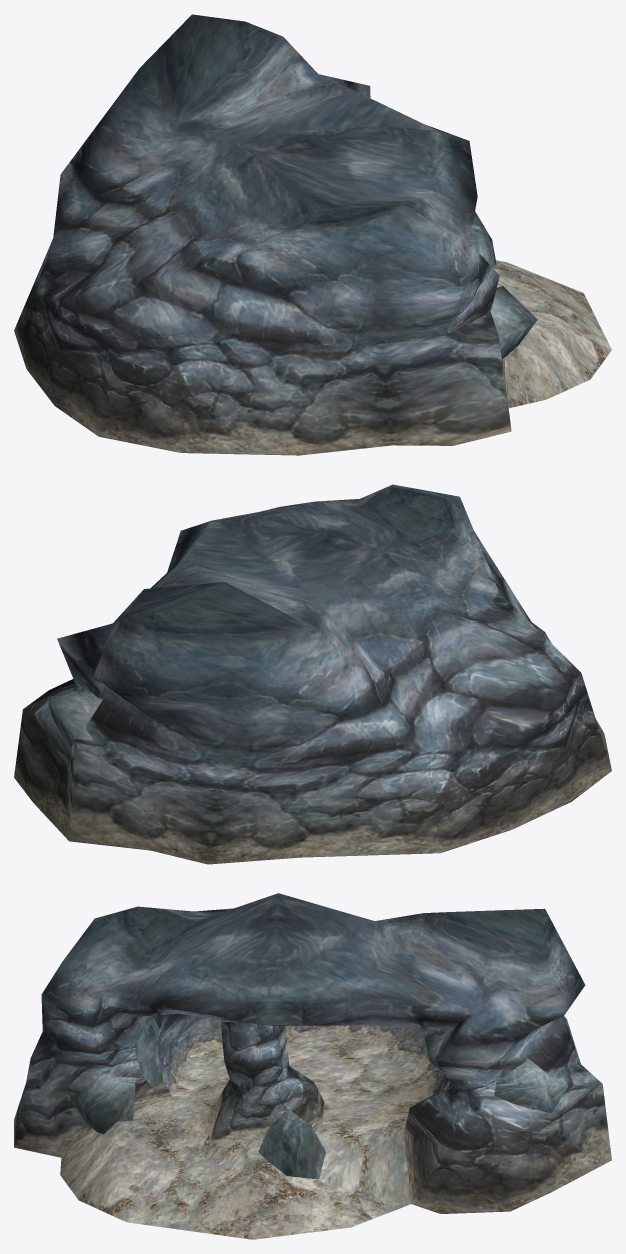
Rendered from animalden_set0.obj.
3 views of the same model, one above another, from view 1: azimuth 30°, elevation 25°; view 2: azimuth 150°, elevation 25°; view 3: azimuth 270°, elevation 25° (orthographic). The views are drawn at different scales.
Parts seen in each view (by area): view 1: den012, den010, den013; view 2: den012, den013; view 3: den012, den010, den013, den011.
Part boxes in pixels (x1,y1,x2,y2): den012: (14, 14, 511, 455); den010: (492, 260, 611, 408); den013: (469, 211, 537, 358); den012: (14, 484, 611, 864); den013: (47, 688, 102, 749); den012: (14, 893, 611, 1213); den010: (60, 1036, 427, 1239); den013: (71, 1019, 567, 1179); den011: (157, 1014, 446, 1096).
Size of the model in its own units: 7.59 by 3.2 by 7.95.
Materials: 4 (4 with a texture image).
